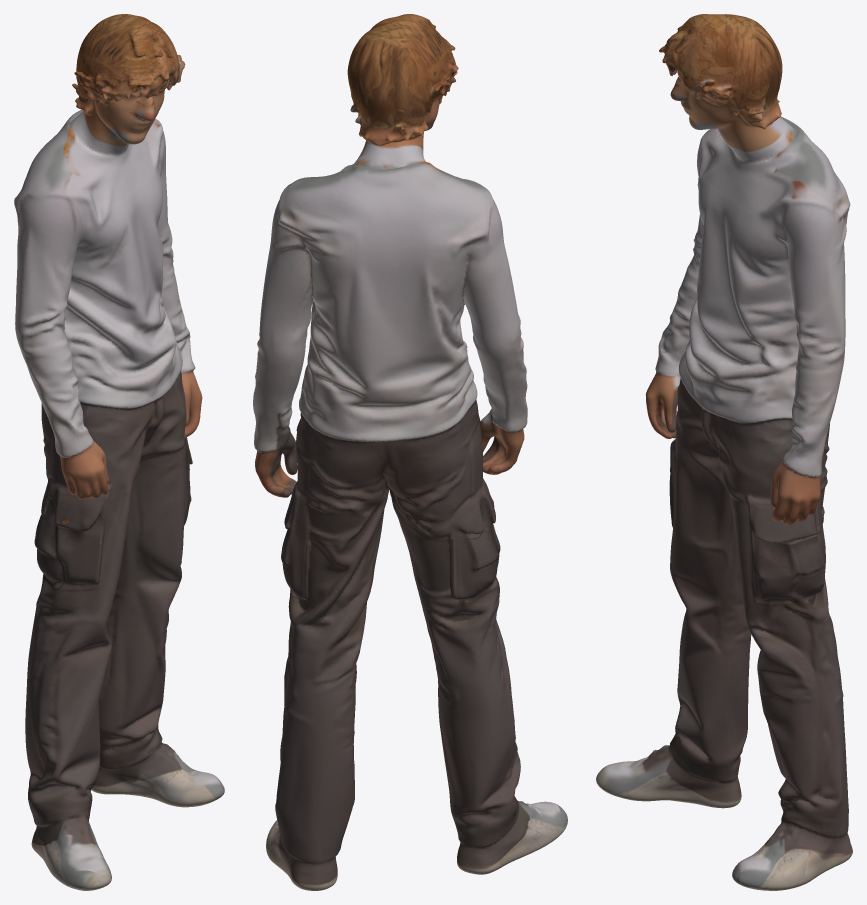
File: Agent Jones.glb
3 views of the same model, side by side, from view 1: azimuth 30°, elevation 25°; view 2: azimuth 150°, elevation 25°; view 3: azimuth 270°, elevation 25° (orthographic).
Parts seen in each view (by area): view 1: tripo_node_2ecfbedd-8c2d-48f8-9777-094fa96c2508; view 2: tripo_node_2ecfbedd-8c2d-48f8-9777-094fa96c2508; view 3: tripo_node_2ecfbedd-8c2d-48f8-9777-094fa96c2508.
Part boxes in pixels (bbox=[...]): tripo_node_2ecfbedd-8c2d-48f8-9777-094fa96c2508: bbox=[14, 14, 224, 890]; tripo_node_2ecfbedd-8c2d-48f8-9777-094fa96c2508: bbox=[253, 14, 567, 890]; tripo_node_2ecfbedd-8c2d-48f8-9777-094fa96c2508: bbox=[596, 14, 852, 890].
Bounding box in the file's own units: 0.2816 × 1 × 0.2809.
1 material, 1 textured.
